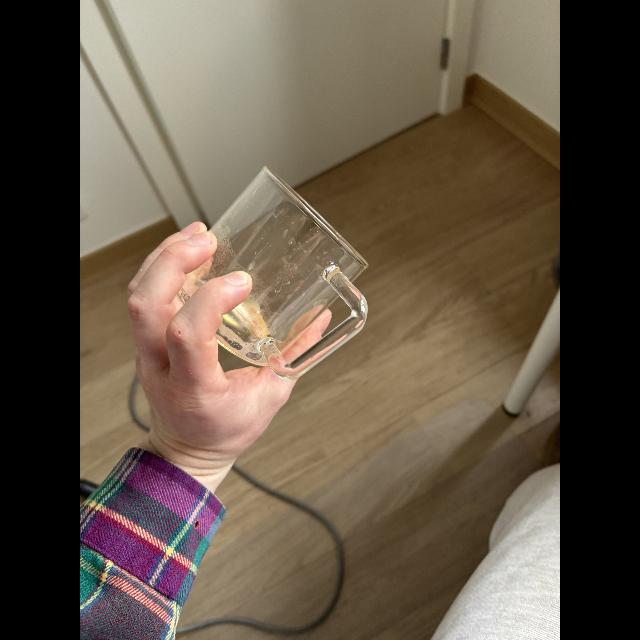Glass: (186, 164, 372, 378)
